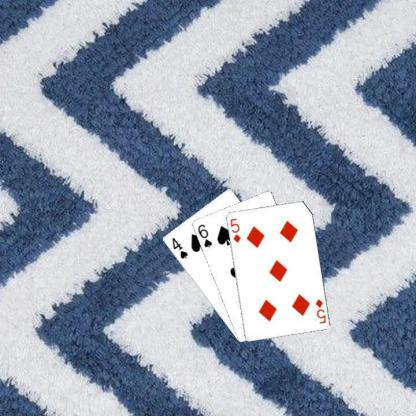4S: (169, 235, 189, 260)
5D: (228, 215, 242, 244), (313, 296, 327, 325)
6S: (195, 222, 213, 248)
